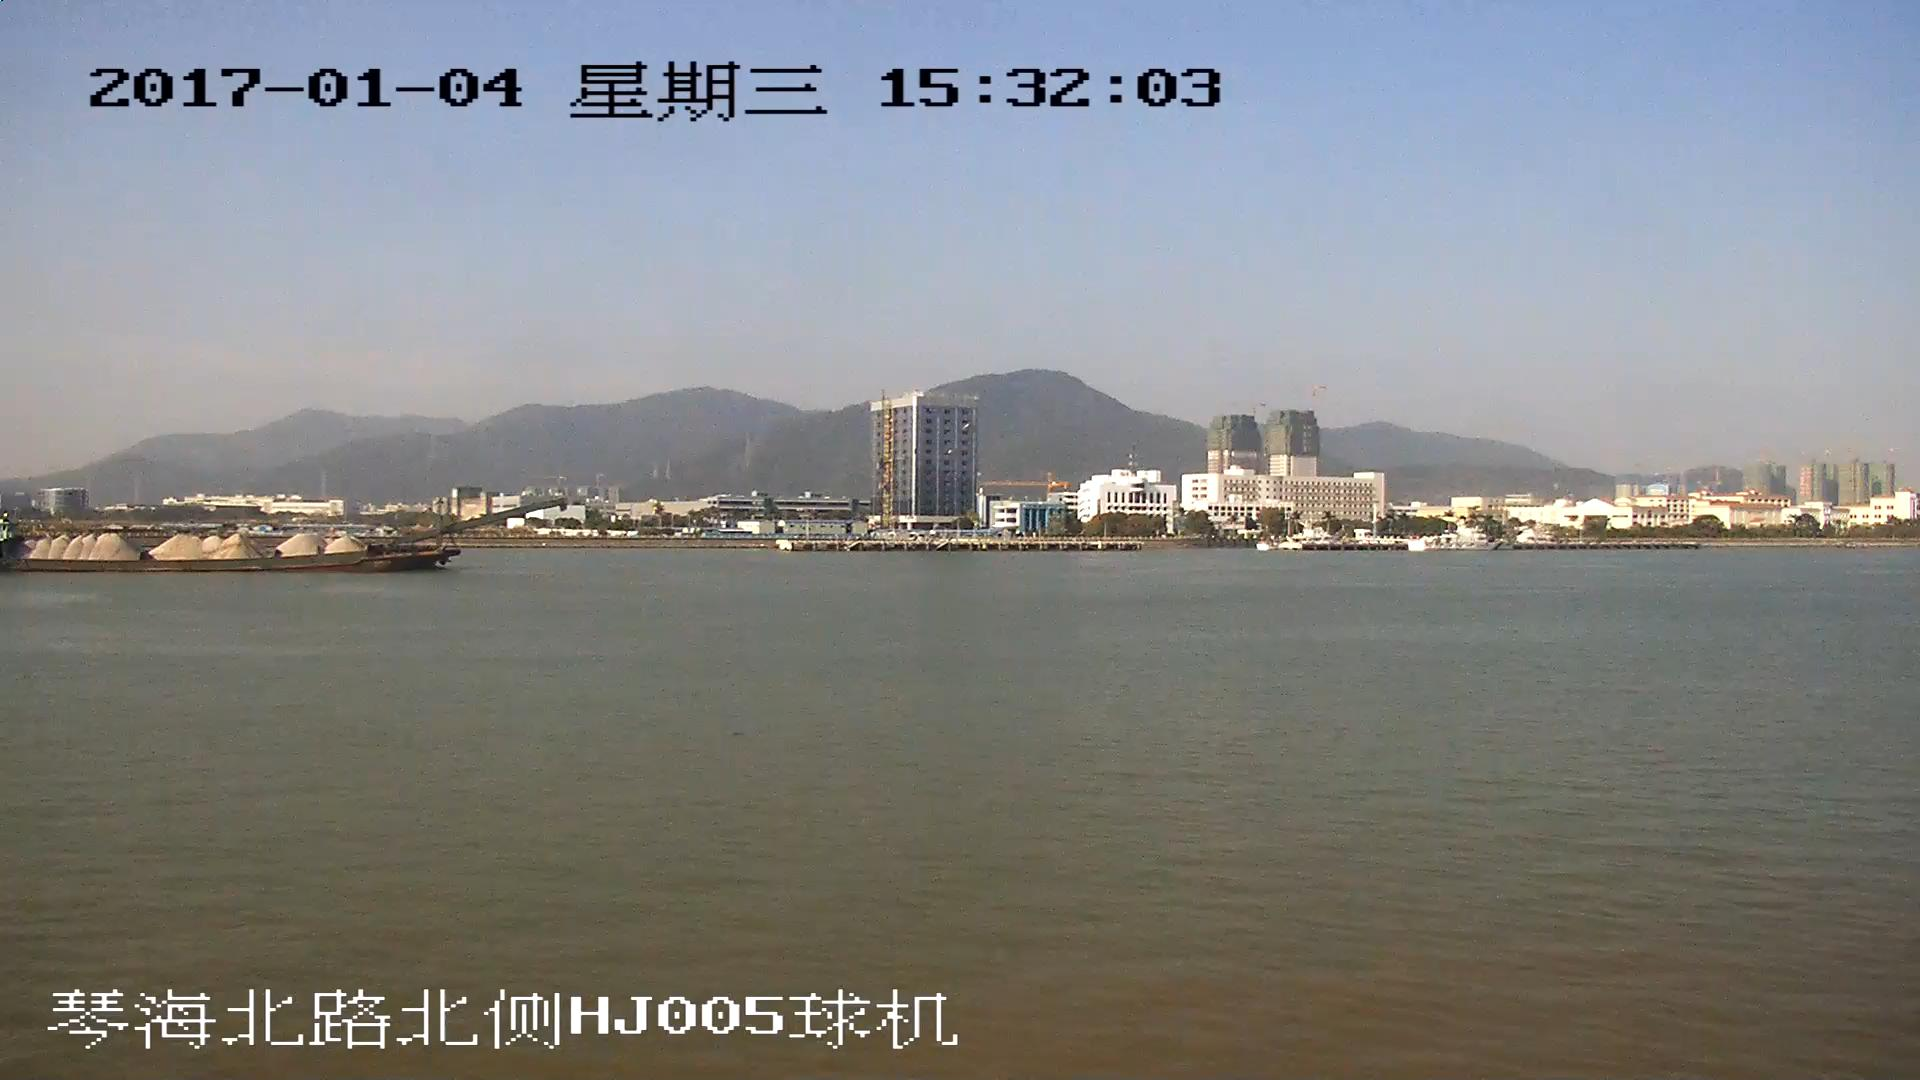ore carrier: (1, 500, 562, 575)
